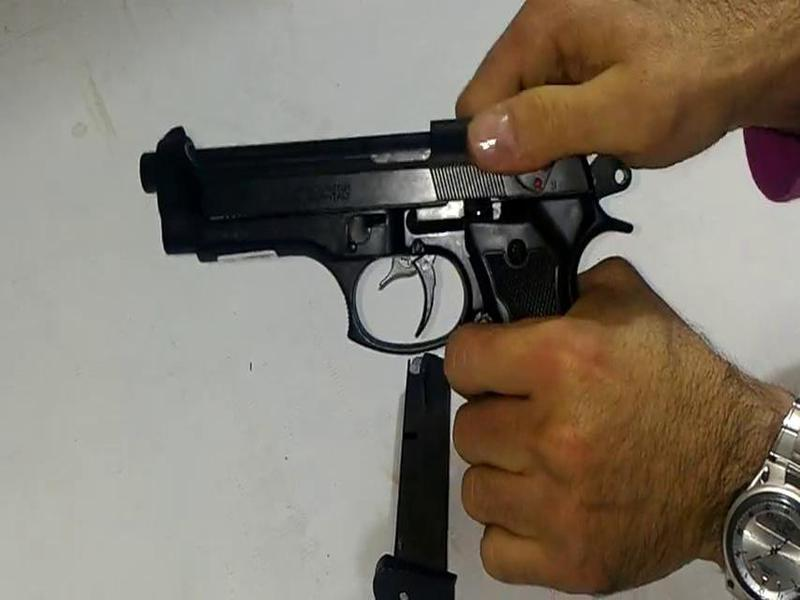Pistola: (102, 86, 648, 357)
